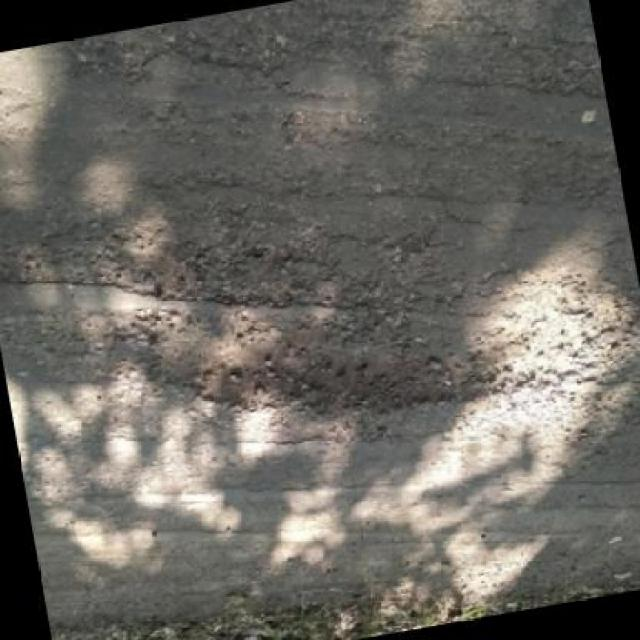pothole1: (136, 260, 527, 462)
